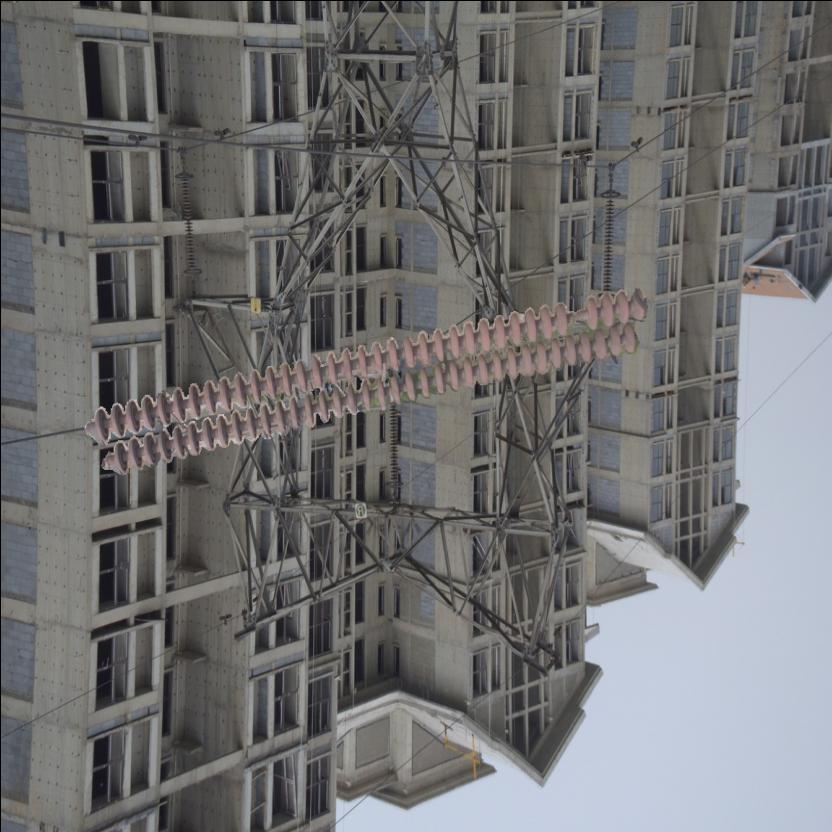defect: (552, 292, 604, 338)
